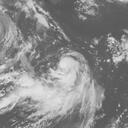cyclone: (21, 53, 103, 117)
